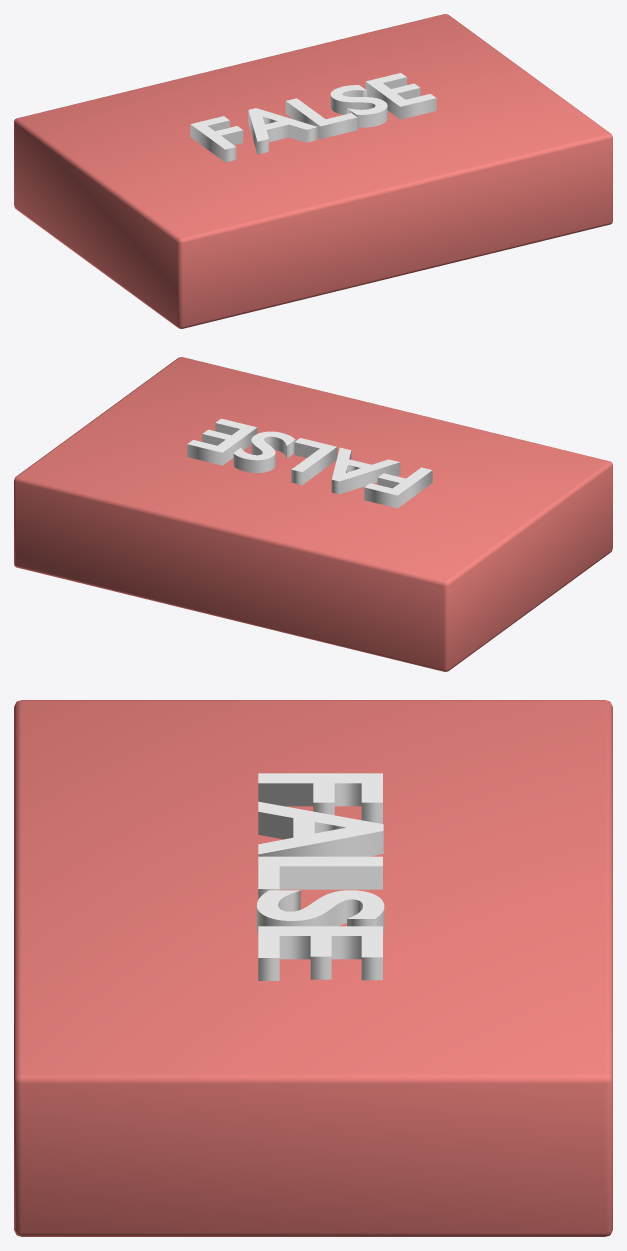
The model's file is false.fbx.
3 views of the same model, one above another, from view 1: azimuth 30°, elevation 25°; view 2: azimuth 150°, elevation 25°; view 3: azimuth 270°, elevation 25° (orthographic). The views are drawn at different scales.
Parts seen in each view (by area): view 1: False_Base, False_Text; view 2: False_Base, False_Text; view 3: False_Base, False_Text.
Boxes of the visible parts, x1,y1,x2,y2 form: False_Base: (14, 14, 612, 328); False_Text: (190, 73, 436, 162); False_Base: (14, 357, 612, 671); False_Text: (187, 418, 432, 508); False_Base: (14, 700, 612, 1236); False_Text: (256, 773, 384, 980).
Bounding box in the file's own units: 300 × 68.5 × 200.
